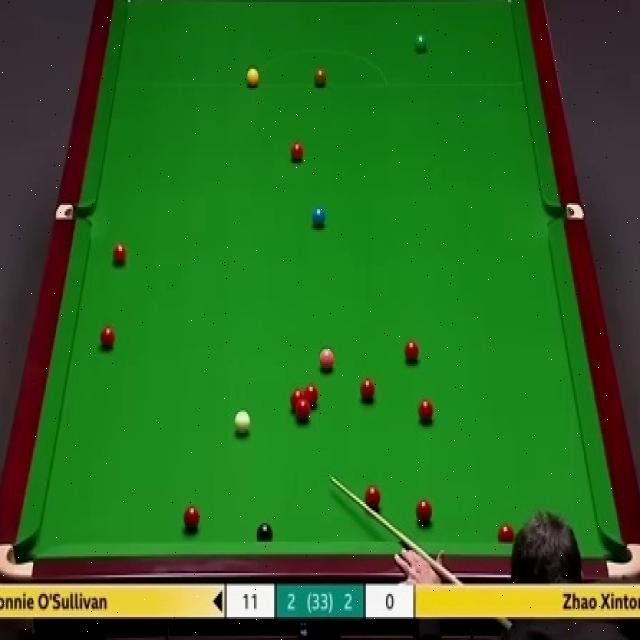black-ball: (256, 523, 273, 542)
blue-ball: (311, 205, 326, 229)
brown-ball: (312, 65, 327, 89)
green-ball: (412, 34, 428, 54)
pink-ball: (319, 344, 335, 372)
red-ball: (403, 338, 420, 368), (98, 324, 116, 352), (415, 498, 432, 526), (111, 240, 128, 268), (183, 505, 200, 532), (364, 484, 381, 511), (417, 396, 433, 423), (359, 377, 375, 404), (289, 139, 305, 163), (305, 384, 319, 410), (498, 523, 515, 544), (296, 402, 310, 422), (291, 389, 304, 410)
white-ball: (231, 406, 251, 441)
yellow-ball: (246, 66, 260, 87)
